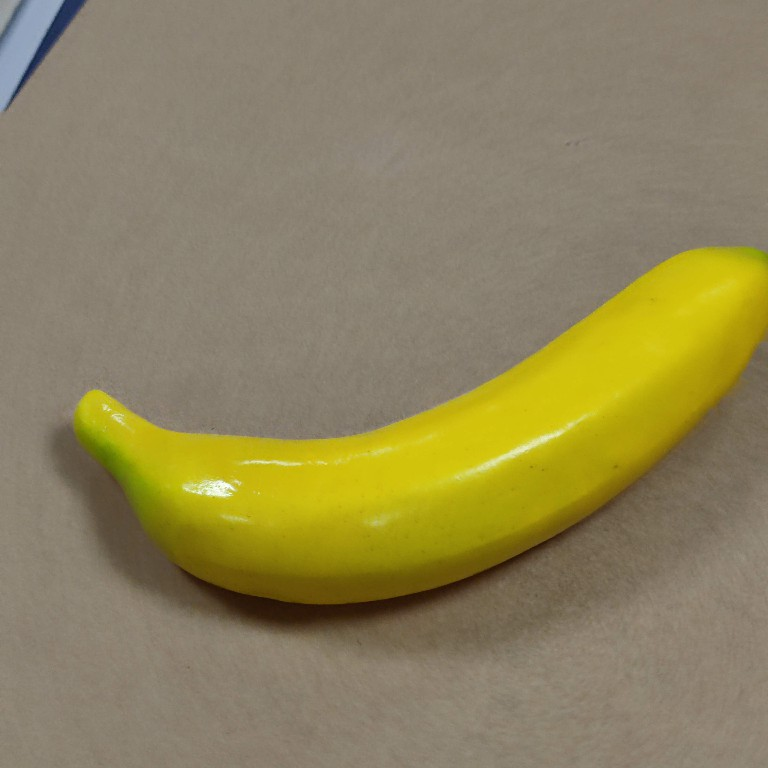fruit_banana: (67, 239, 768, 613)
